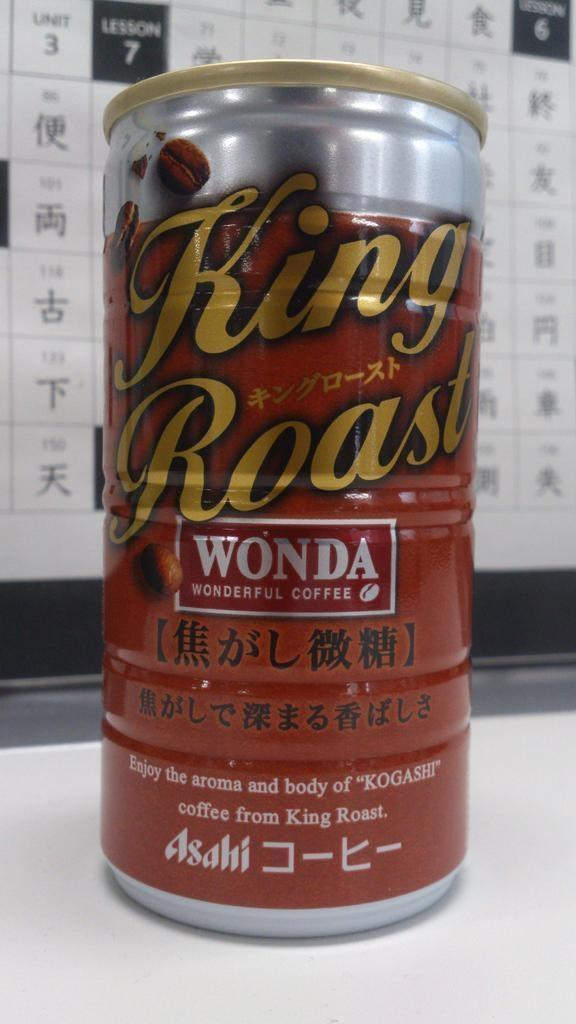tin can: (102, 60, 485, 937)
